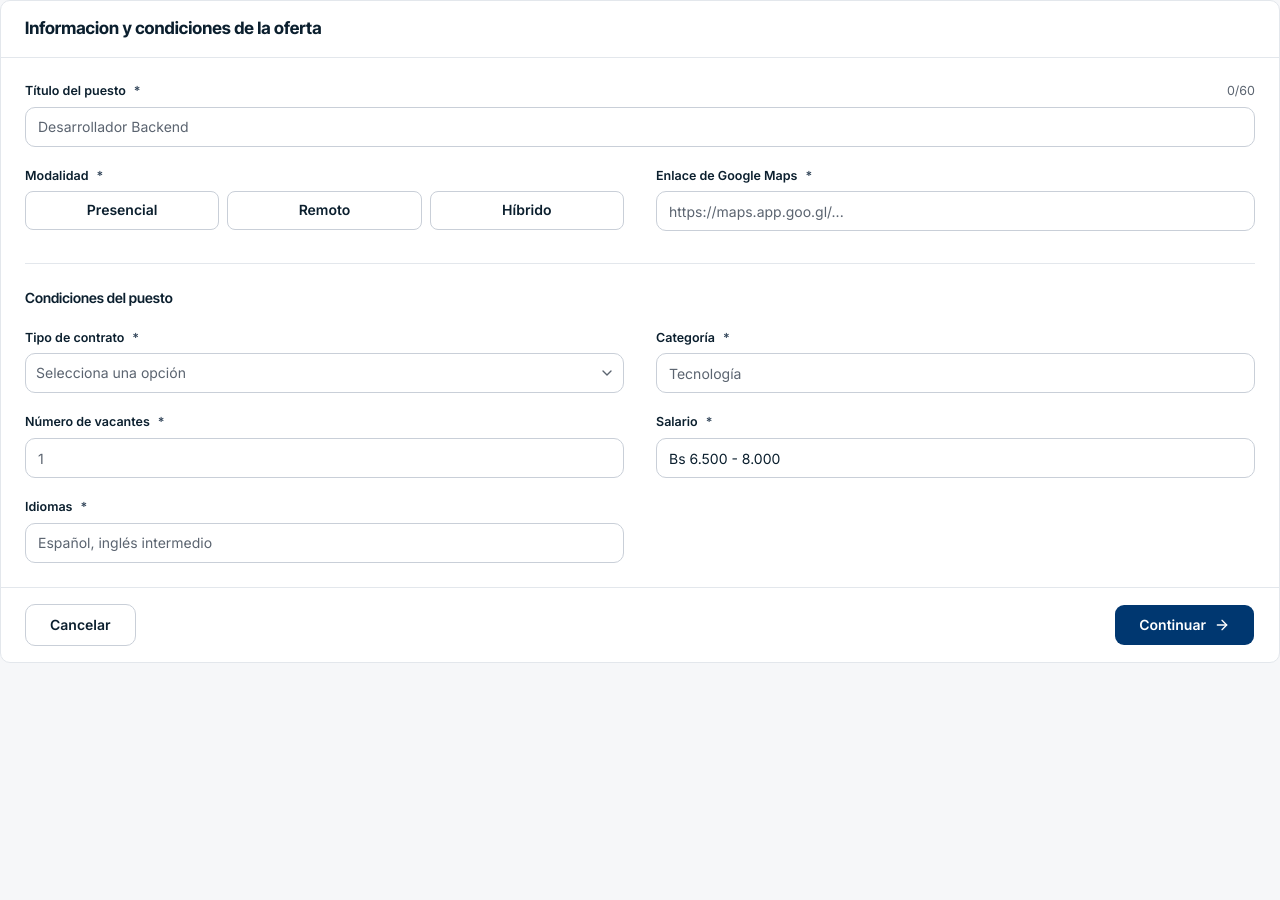
InformationStep › mantiene el cursor en su lugar al editar el monto mínimo
The width and height of the screenshot is (1280, 900).
Type "Bs 6.50 - 8.000" into the field labelled "Salario *" at (956, 458), box [656,438,1255,478]
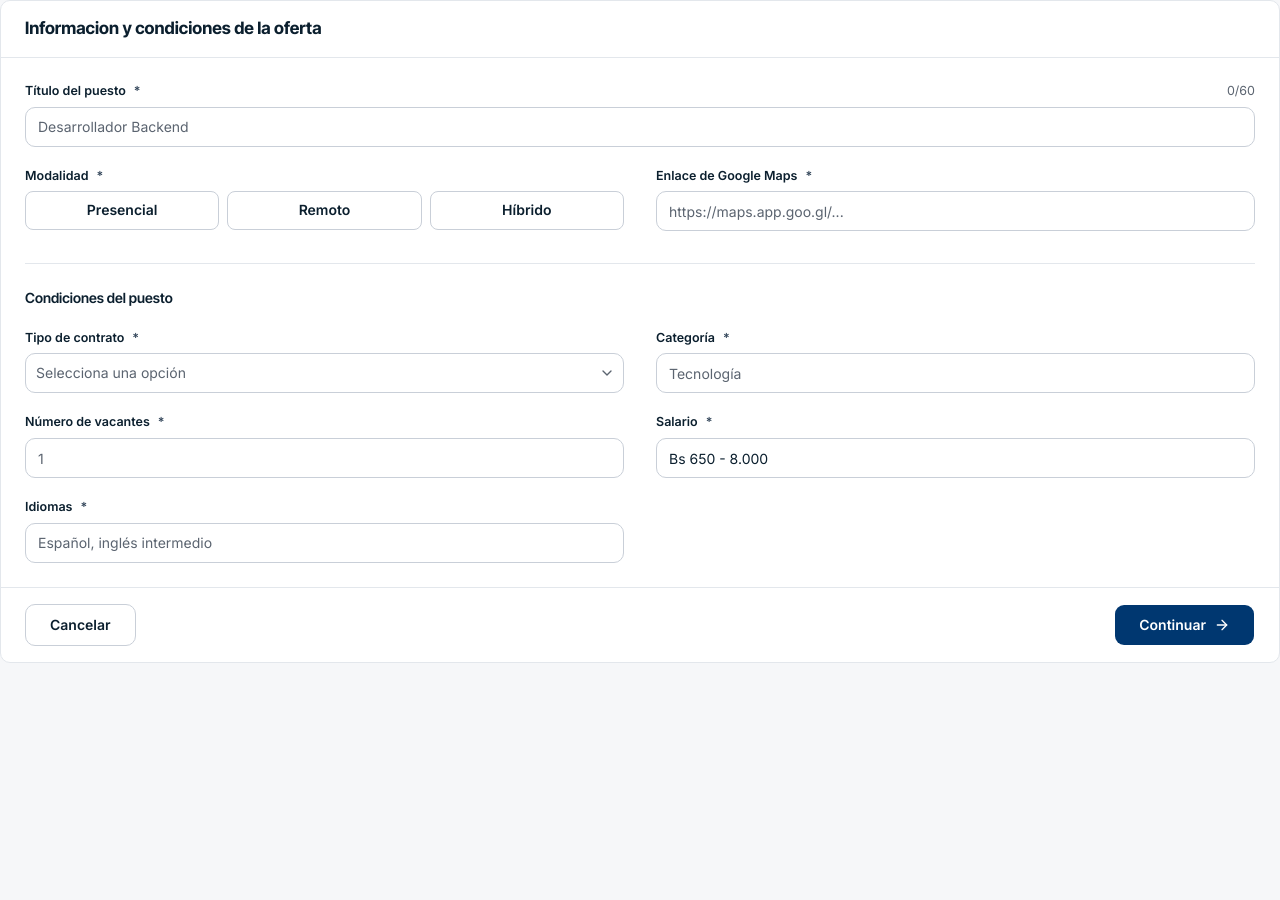
Expected: the field labelled "Salario *" holds "Bs 650 - 8.000", [656,438,1255,478]
